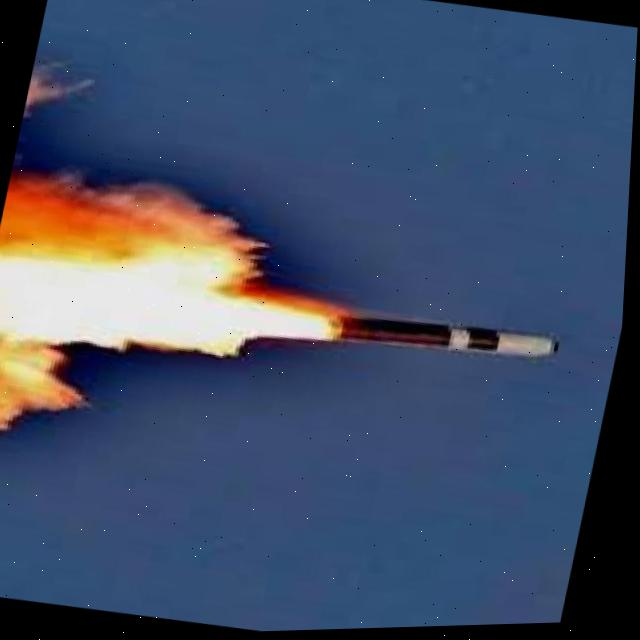missile: (331, 300, 567, 382)
